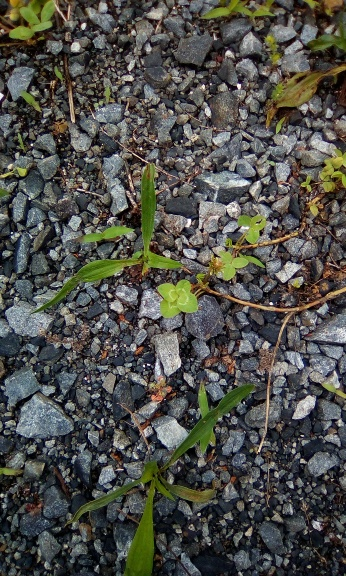4leaf: (156, 279, 199, 319)
